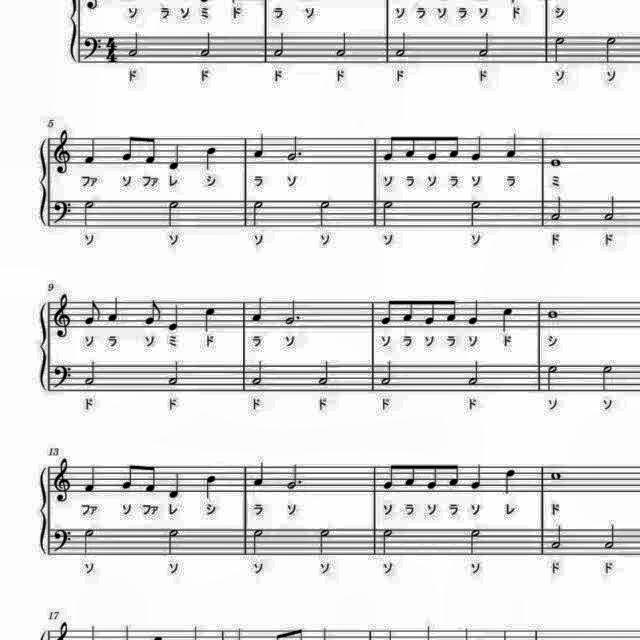Bass-clef: (52, 197, 76, 227), (52, 363, 76, 391), (81, 34, 103, 62), (52, 526, 74, 554)
Eighth-note: (140, 296, 163, 328), (142, 133, 160, 167), (83, 298, 103, 328), (119, 132, 137, 164), (118, 460, 136, 492), (378, 132, 396, 164), (404, 130, 421, 162), (143, 462, 159, 496), (424, 461, 440, 494), (424, 130, 440, 163), (422, 296, 438, 328), (378, 462, 394, 494), (376, 294, 392, 326), (400, 295, 416, 325), (447, 461, 463, 491), (403, 461, 419, 491), (444, 296, 460, 324), (448, 132, 462, 160)
Full-note: (548, 157, 566, 171), (549, 467, 565, 481), (546, 308, 562, 320)
Half-dot: (284, 132, 304, 164), (284, 460, 304, 492), (282, 296, 302, 328)
Half-note: (465, 526, 483, 560), (164, 197, 183, 229), (318, 198, 336, 230), (469, 198, 487, 230), (551, 34, 569, 66), (165, 524, 183, 556), (549, 194, 567, 226), (597, 362, 615, 394), (601, 520, 619, 552), (249, 198, 267, 230), (600, 192, 618, 224), (167, 359, 186, 389), (542, 362, 560, 393), (549, 521, 567, 551), (317, 357, 335, 387), (198, 29, 216, 59), (477, 27, 495, 57), (465, 359, 483, 389), (393, 30, 411, 59), (249, 359, 267, 388), (334, 31, 352, 60), (376, 358, 394, 387), (80, 528, 96, 560), (80, 198, 96, 230), (318, 528, 334, 560), (378, 198, 394, 230), (378, 528, 394, 560), (250, 526, 266, 558), (604, 31, 620, 63), (128, 29, 144, 59), (82, 357, 98, 387), (272, 30, 288, 59)
Quarter-note: (83, 464, 101, 496), (501, 466, 519, 498), (83, 136, 101, 168), (167, 141, 185, 173), (167, 468, 185, 499), (168, 301, 185, 333), (105, 295, 123, 325), (250, 130, 268, 160), (464, 298, 482, 328), (497, 303, 515, 333), (201, 303, 219, 333), (468, 132, 484, 164), (468, 461, 484, 492), (250, 295, 266, 325), (250, 460, 266, 490), (204, 144, 220, 174), (506, 130, 522, 160), (203, 472, 219, 502)
Treble-clef: (52, 457, 76, 507), (52, 290, 76, 340), (52, 128, 76, 176)
